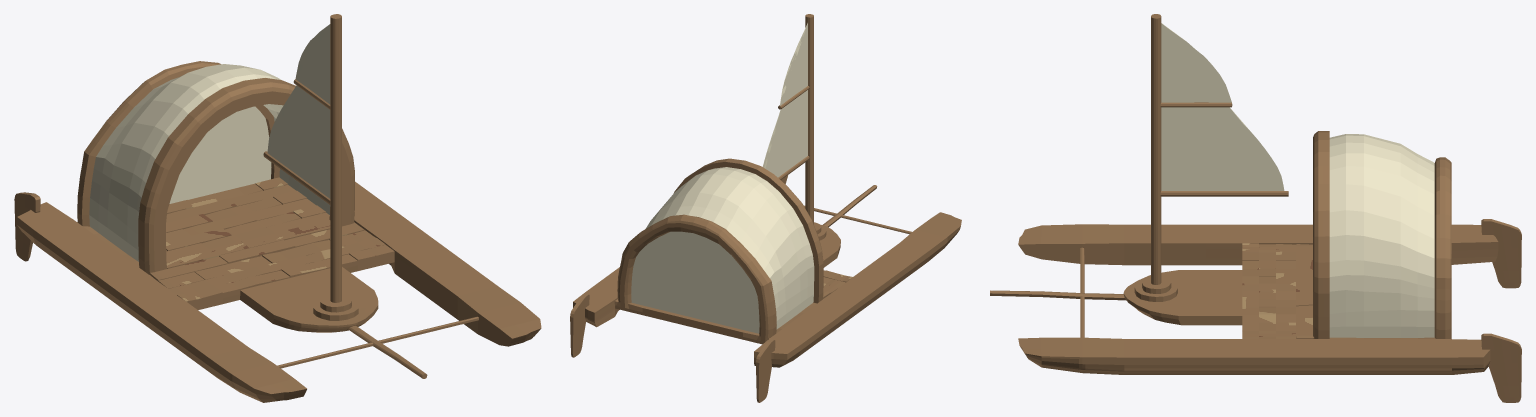
The model's file is atoll_boat.fbx.
3 views of the same model, side by side, from view 1: azimuth 30°, elevation 25°; view 2: azimuth 150°, elevation 25°; view 3: azimuth 270°, elevation 25° (orthographic). The views are drawn at different scales.
Visible parts, largest first — view 1: pCube3; view 2: pCube3; view 3: pCube3.
Part boxes in pixels (x1,y1,x2,y2): pCube3: [14, 14, 541, 402]; pCube3: [570, 14, 961, 402]; pCube3: [990, 14, 1521, 402].
Size of the model in its own units: 7.22 by 8.32 by 12.2.
